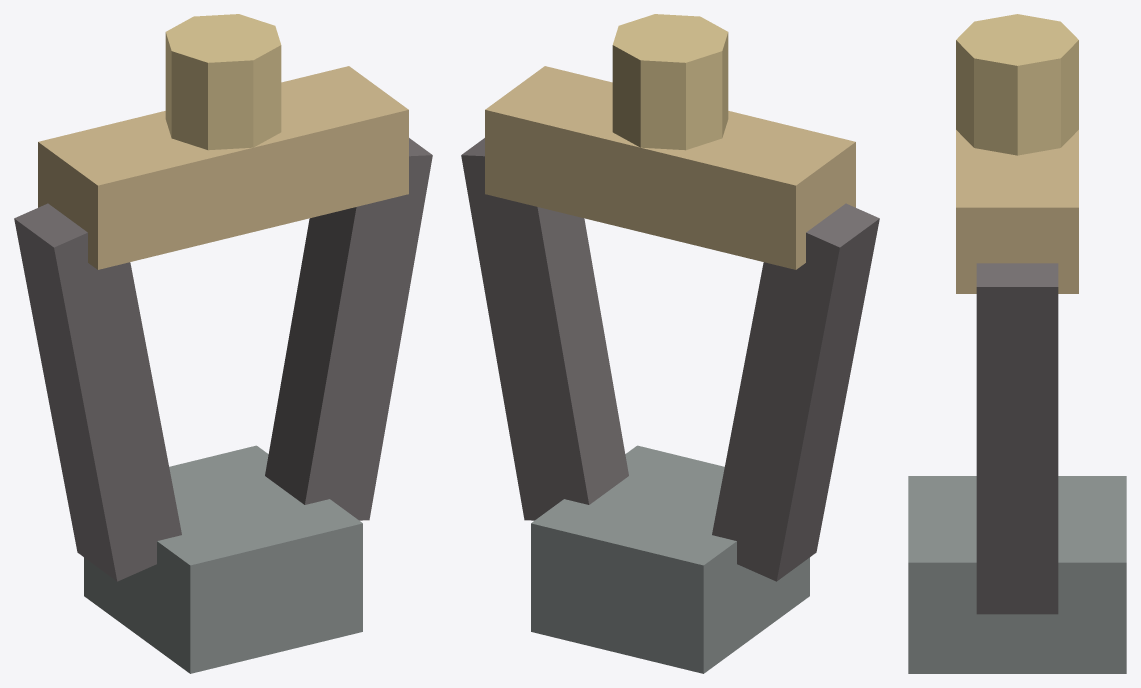
The model's file is roof_ridge_finial.glb.
3 renders of one model, left to right at view 1: azimuth 30°, elevation 25°; view 2: azimuth 150°, elevation 25°; view 3: azimuth 270°, elevation 25°, orthographic. The views are drawn at different scales.
Parts seen in each view (by area): view 1: box_3, box_0, beam_1, beam_2, cylinder_4; view 2: box_3, box_0, beam_1, beam_2, cylinder_4; view 3: box_0, beam_2, cylinder_4, box_3.
Part boxes in pixels (bbox=[...]): box_3: bbox=[38, 66, 408, 269]; box_0: bbox=[84, 445, 362, 673]; beam_1: bbox=[14, 203, 181, 581]; beam_2: bbox=[265, 138, 432, 520]; cylinder_4: bbox=[165, 14, 281, 150]; box_3: bbox=[485, 66, 855, 269]; box_0: bbox=[531, 445, 809, 673]; beam_1: bbox=[712, 203, 879, 581]; beam_2: bbox=[461, 138, 628, 520]; cylinder_4: bbox=[612, 14, 728, 150]; box_0: bbox=[908, 476, 1126, 673]; beam_2: bbox=[976, 263, 1058, 614]; cylinder_4: bbox=[956, 14, 1078, 155]; box_3: bbox=[956, 130, 1078, 293].
Size of the model in its own units: 0.6579 by 0.955 by 0.32.
